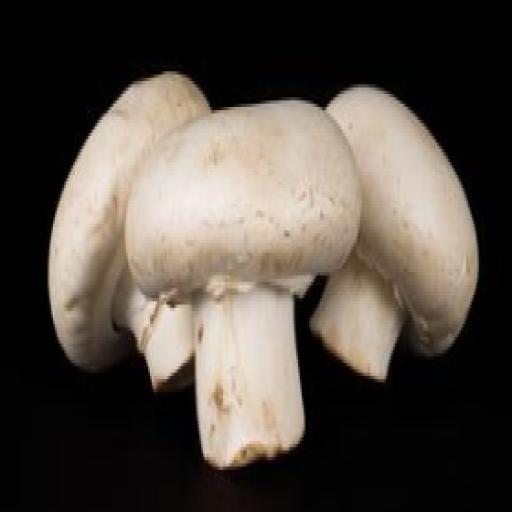Button Mushroom: (124, 95, 365, 468), (38, 46, 216, 398), (310, 53, 483, 392)
